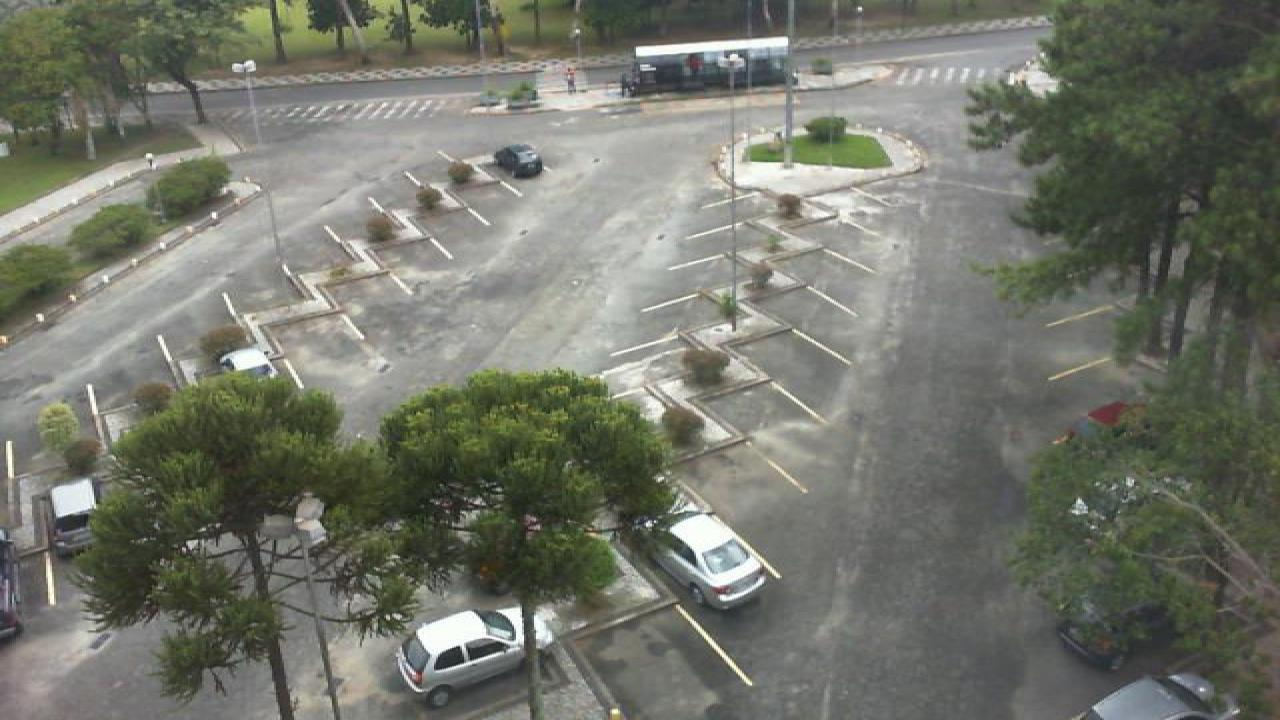Car: (390, 608, 534, 703), (638, 510, 770, 612), (1078, 671, 1242, 720), (46, 476, 106, 552), (1054, 399, 1136, 448), (216, 346, 278, 380), (494, 143, 544, 179)
